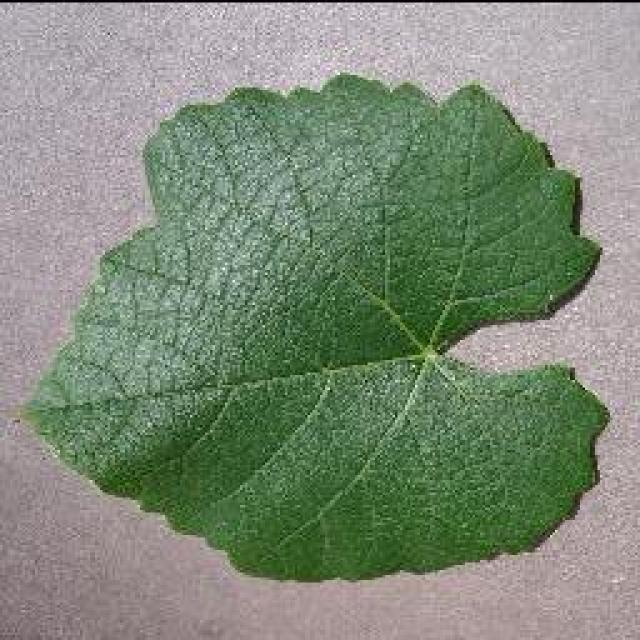Grape___healthy: (7, 63, 624, 588)
